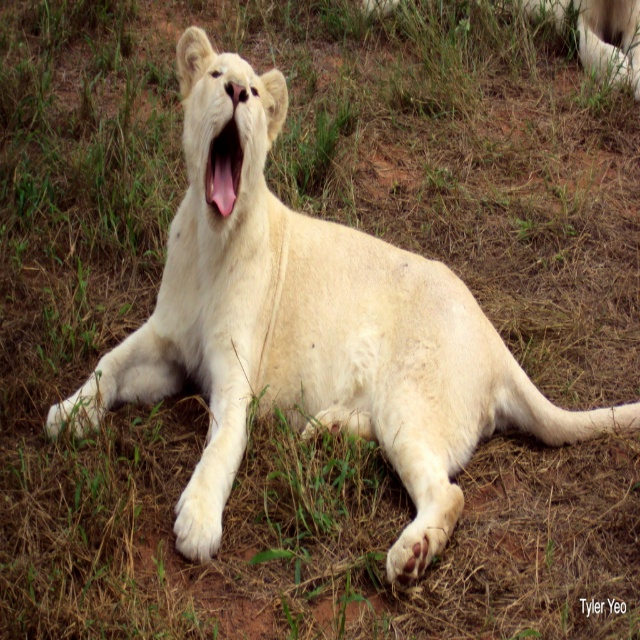Lion: (44, 27, 640, 587)
